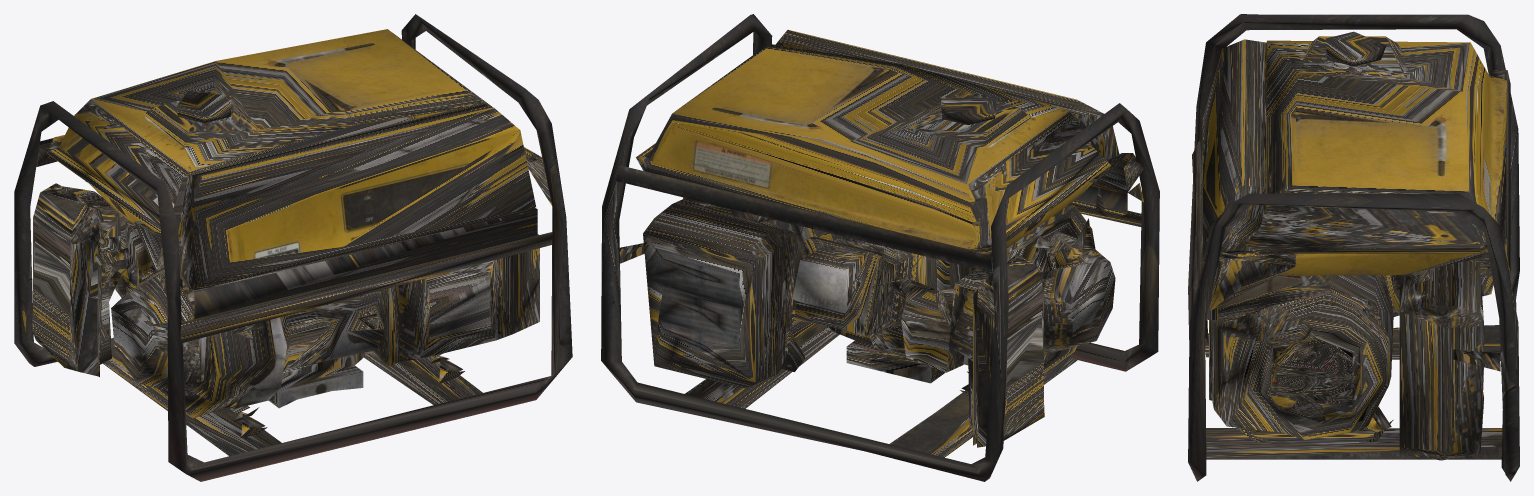
The model's file is portable_generator_game.gltf.
The picture shows the model from 3 angles, left to right: view 1: azimuth 30°, elevation 25°; view 2: azimuth 150°, elevation 25°; view 3: azimuth 270°, elevation 25°; orthographic projection. The views are drawn at different scales.
Visible parts, largest first — view 1: portable_generator; view 2: portable_generator; view 3: portable_generator.
Part boxes in pixels (box(x1,y1,x2,y2)): portable_generator: box(14, 14, 572, 481); portable_generator: box(601, 14, 1159, 481); portable_generator: box(1188, 14, 1519, 481).
Size of the model in its own units: 0.8063 by 0.5752 by 0.5591.
Materials: 2 (2 with a texture image).
